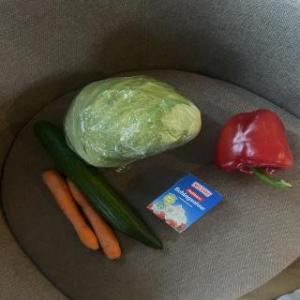bell_pepper: (215, 107, 297, 191)
cabbage: (50, 73, 206, 167)
carrot: (34, 173, 104, 267), (64, 176, 126, 258)
cucumber: (26, 115, 168, 257)
